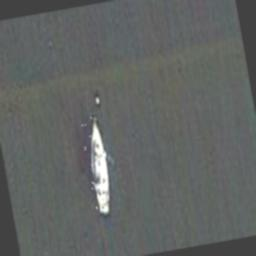boat: (79, 113, 116, 218)
